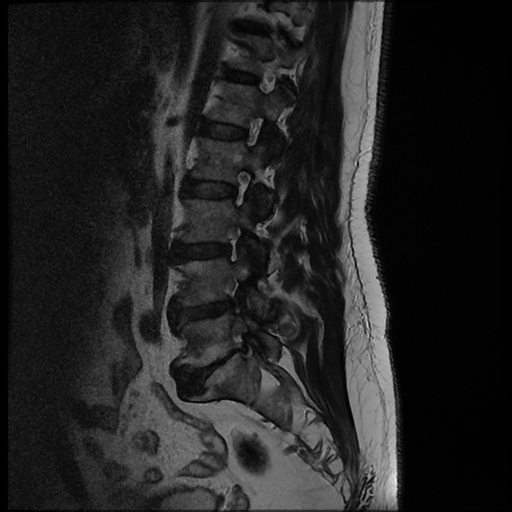RFS0: (222, 156, 256, 213), (235, 106, 269, 153)
RFS1: (217, 218, 250, 269)
